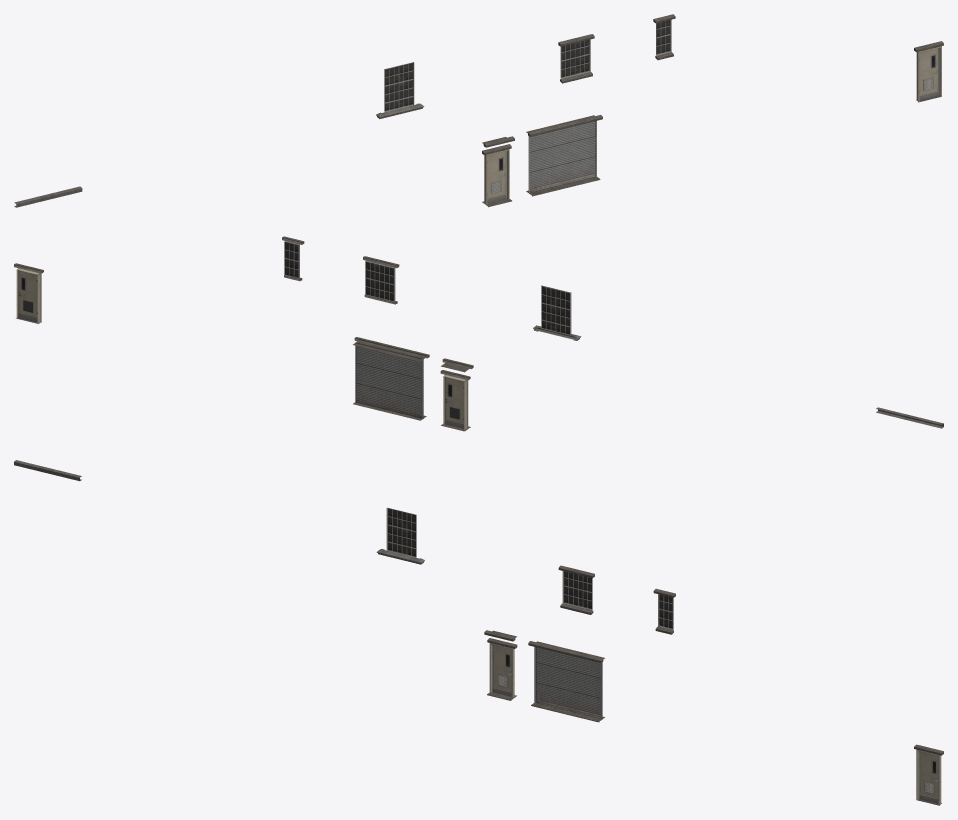
File: facade-details.glb
3 views of the same model, one above another, from view 1: azimuth 30°, elevation 25°; view 2: azimuth 150°, elevation 25°; view 3: azimuth 330°, elevation 25° (orthographic).
Parts seen in each view (by area): view 1: door_garage_door_01, window_tall_small_01, door_centered_small_01, window_centered_medium_01, window_centered_small_01, cornice02_standard_standard_01; view 2: door_garage_door_01, window_tall_small_01, door_centered_small_01, window_centered_medium_01, window_centered_small_01; view 3: door_garage_door_01, window_tall_small_01, door_centered_small_01, window_centered_medium_01, window_centered_small_01.
Boxes of the visible parts, bbox=[...] form: door_garage_door_01: bbox=[482, 115, 602, 207]; window_tall_small_01: bbox=[376, 62, 424, 118]; door_centered_small_01: bbox=[914, 41, 943, 102]; window_centered_medium_01: bbox=[558, 34, 594, 83]; window_centered_small_01: bbox=[653, 14, 675, 60]; cornice02_standard_standard_01: bbox=[14, 186, 82, 207]; door_garage_door_01: bbox=[353, 337, 473, 431]; window_tall_small_01: bbox=[533, 285, 581, 340]; door_centered_small_01: bbox=[14, 263, 43, 323]; window_centered_medium_01: bbox=[363, 256, 399, 304]; window_centered_small_01: bbox=[282, 236, 304, 281]; door_garage_door_01: bbox=[484, 630, 604, 722]; window_tall_small_01: bbox=[376, 507, 424, 564]; door_centered_small_01: bbox=[914, 744, 943, 805]; window_centered_medium_01: bbox=[558, 565, 594, 614]; window_centered_small_01: bbox=[653, 588, 675, 634].
Bounding box in the file's own units: 42.13 × 7 × 0.5678.
Materials: 5 (5 with a texture image).
